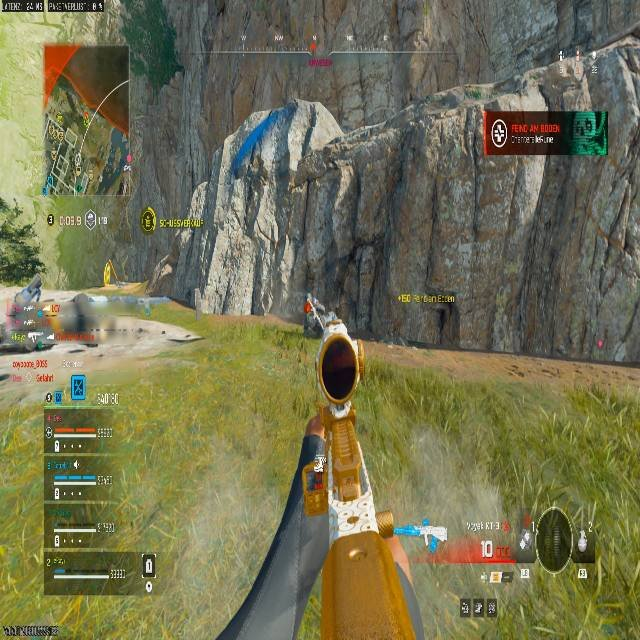player: (3, 276, 106, 355)
